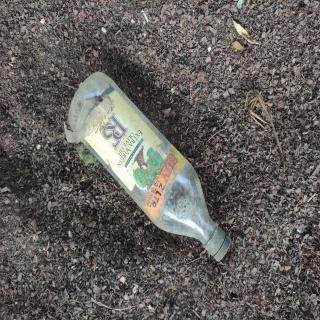Plastic-bottle: (68, 67, 235, 272)
